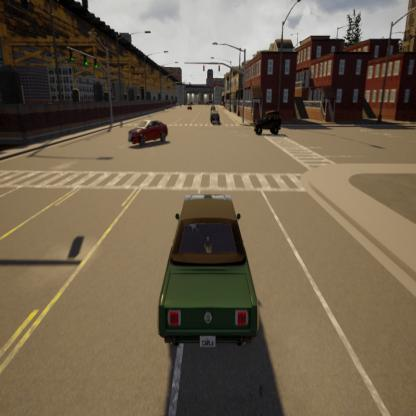Cars: (140, 184, 266, 357), (128, 116, 172, 154), (251, 108, 284, 136), (208, 108, 222, 126), (186, 103, 194, 111)
